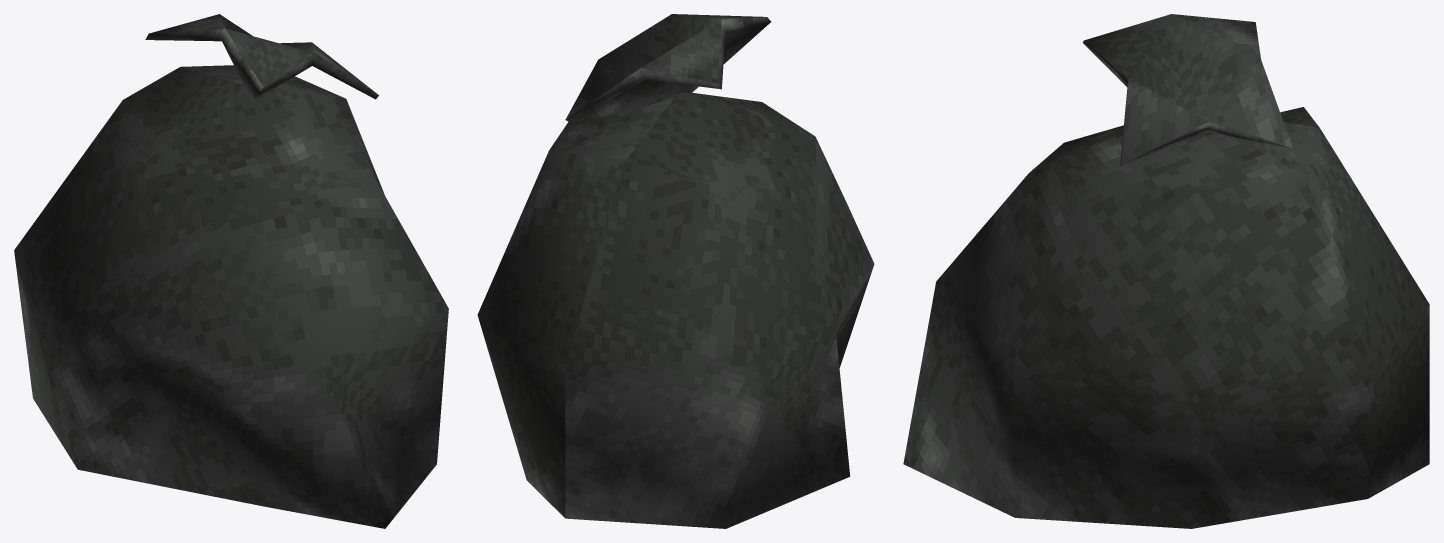
The model's file is trash-bag.glb.
The picture shows the model from 3 angles, left to right: view 1: azimuth 30°, elevation 25°; view 2: azimuth 150°, elevation 25°; view 3: azimuth 270°, elevation 25°; orthographic projection. The views are drawn at different scales.
Visible parts, largest first — view 1: Bag; view 2: Bag; view 3: Bag.
Boxes of the visible parts, x1,y1,x2,y2 form: Bag: (14,14,448,528); Bag: (477,14,874,528); Bag: (903,14,1429,528).
Bounding box in the file's own units: 0.8883 × 1.09 × 1.19.
Materials: 1 (1 with a texture image).
